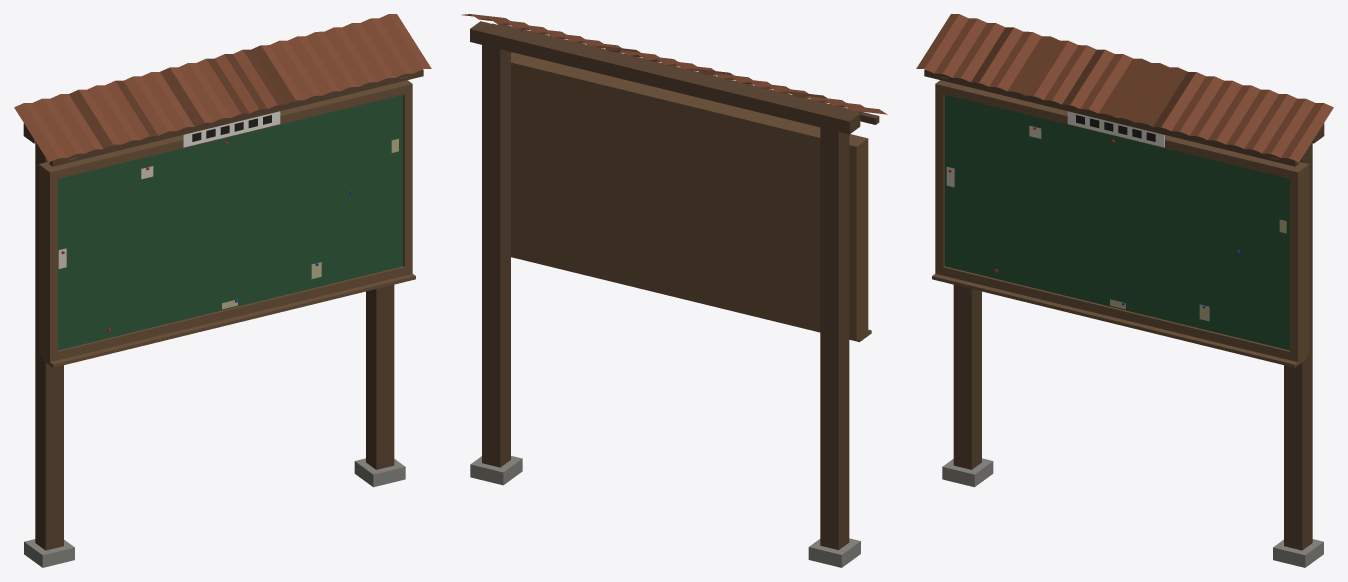
Rendered from bulletin_board.glb.
3 renders of one model, left to right at view 1: azimuth 30°, elevation 25°; view 2: azimuth 150°, elevation 25°; view 3: azimuth 330°, elevation 25°, orthographic. The views are drawn at different scales.
Parts seen in each view (by area): view 1: bulletin_board; view 2: bulletin_board; view 3: bulletin_board.
Boxes of the visible parts, <box> form: bulletin_board: <box>14,14,431,567</box>; bulletin_board: <box>462,14,887,567</box>; bulletin_board: <box>916,14,1333,567</box>.
Bounding box in the file's own units: 1.9 × 2.14 × 0.3059.
